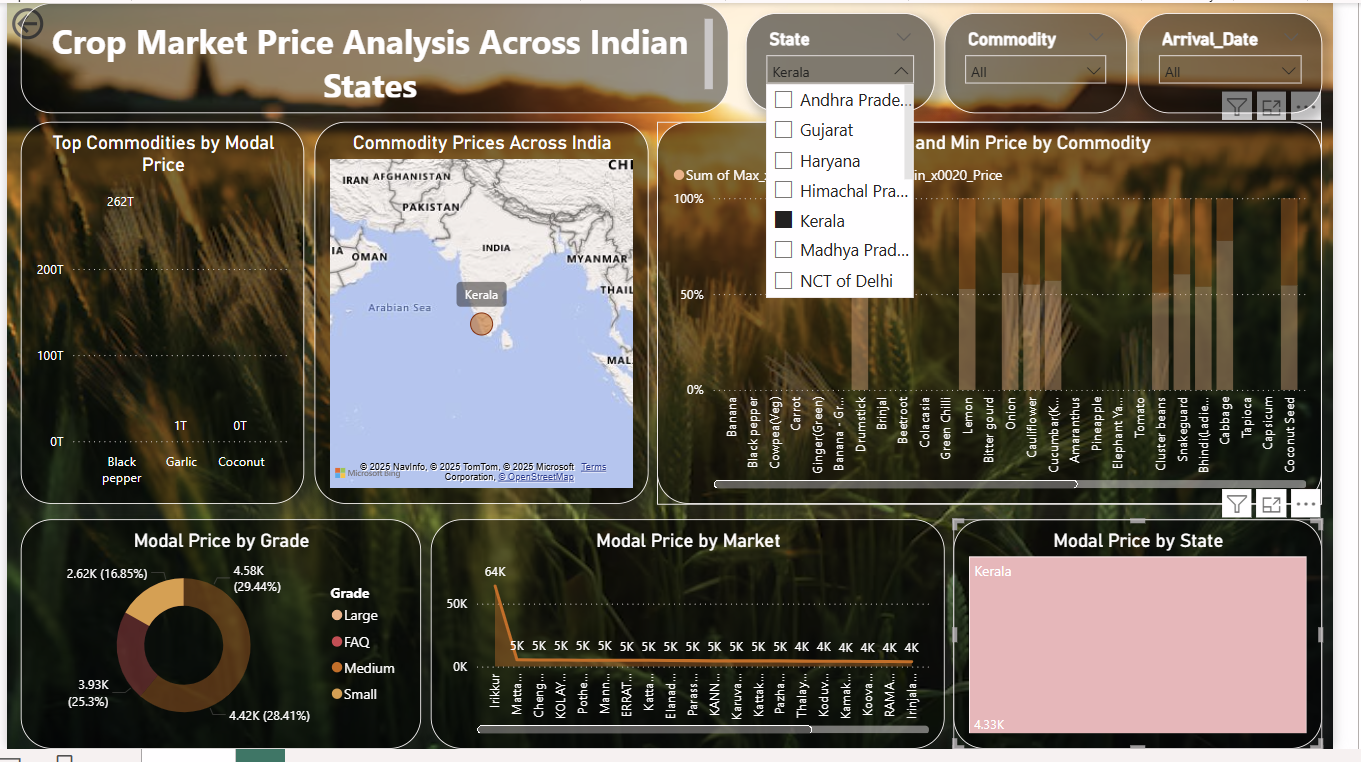

The dashboard page shown, as its layout file describes it:
{"tool":"powerbi","page":{"name":"Page 1","canvas":[1280,720],"ordinal":0},"visuals":[{"type":"columnChart","title":"Top Commodities by Modal Price","fields":{"Category":["Market Price.Commodity"],"Y":["Market Price.Total Modal Price"]},"box":[13.3,114.6,273.9,369.2],"z":0},{"type":"map","title":"Commodity Prices Across India","fields":{"Category":["Market Price.State"],"Size":["CountNonNull(Market Price.Modal_x0020_Price)"]},"box":[296.8,114.6,322.1,369.2],"z":1000},{"type":"hundredPercentStackedColumnChart","title":" Max Price and Min Price by Commodity","fields":{"Category":["Market Price.Commodity"],"Y":["Sum(Market Price.Max_x0020_Price)","Sum(Market Price.Min_x0020_Price)"]},"box":[627.3,114.6,641.8,369.2],"z":2000},{"type":"donutChart","title":"Modal Price by Grade","fields":{"Category":["Market Price.Grade"],"Y":["Market Price.Average Modal Price"]},"box":[13.3,498.3,386.1,222],"z":3000},{"type":"actionButton","box":[0,0,100,40],"z":4000},{"type":"lineChart","title":"Modal Price by Market ","fields":{"Category":["Market Price.Market"],"Y":["Market Price.Average Modal Price"]},"box":[409,498.3,495.8,222],"z":5000},{"type":"textbox","box":[13.3,0,682.8,106.2],"z":6000},{"type":"slicer","fields":{"Values":["Market Price.State"]},"box":[713,9.7,182.2,95.3],"z":7000},{"type":"treemap","title":"Modal Price by State ","fields":{"Values":["Market Price.Average Modal Price"],"Group":["Market Price.State"]},"box":[913.3,498.3,355.9,222],"z":8000},{"type":"slicer","fields":{"Values":["Market Price.Arrival_Date"]},"box":[1091.8,9.7,177.3,96.5],"z":9000},{"type":"slicer","fields":{"Values":["Market Price.Commodity"]},"box":[904.8,9.7,176.1,96.5],"z":10000}]}

Visuals, with their boxes in screenshot pixels (x1, y1, x2, y2):
"Top Commodities by Modal Price" columnChart: (17,116,303,501)
"Commodity Prices Across India" map: (313,116,650,501)
" Max Price and Min Price by Commodity" hundredPercentStackedColumnChart: (658,116,1328,501)
"Modal Price by Grade" donutChart: (17,517,420,748)
actionButton: (4,0,108,38)
"Modal Price by Market " lineChart: (430,517,948,748)
textbox: (17,0,730,107)
slicer - Market Price.State: (748,7,938,106)
"Modal Price by State " treemap: (957,517,1328,748)
slicer - Market Price.Arrival_Date: (1143,7,1328,107)
slicer - Market Price.Commodity: (948,7,1132,107)
